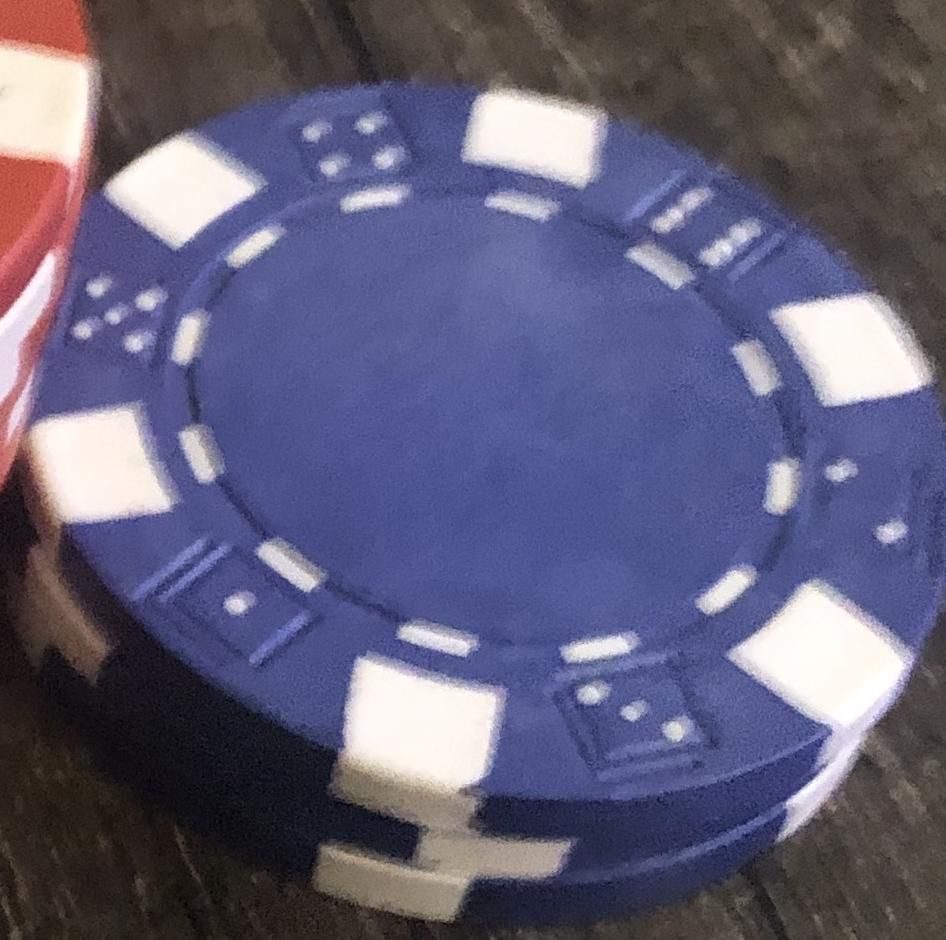Chip: (1, 1, 946, 940)
